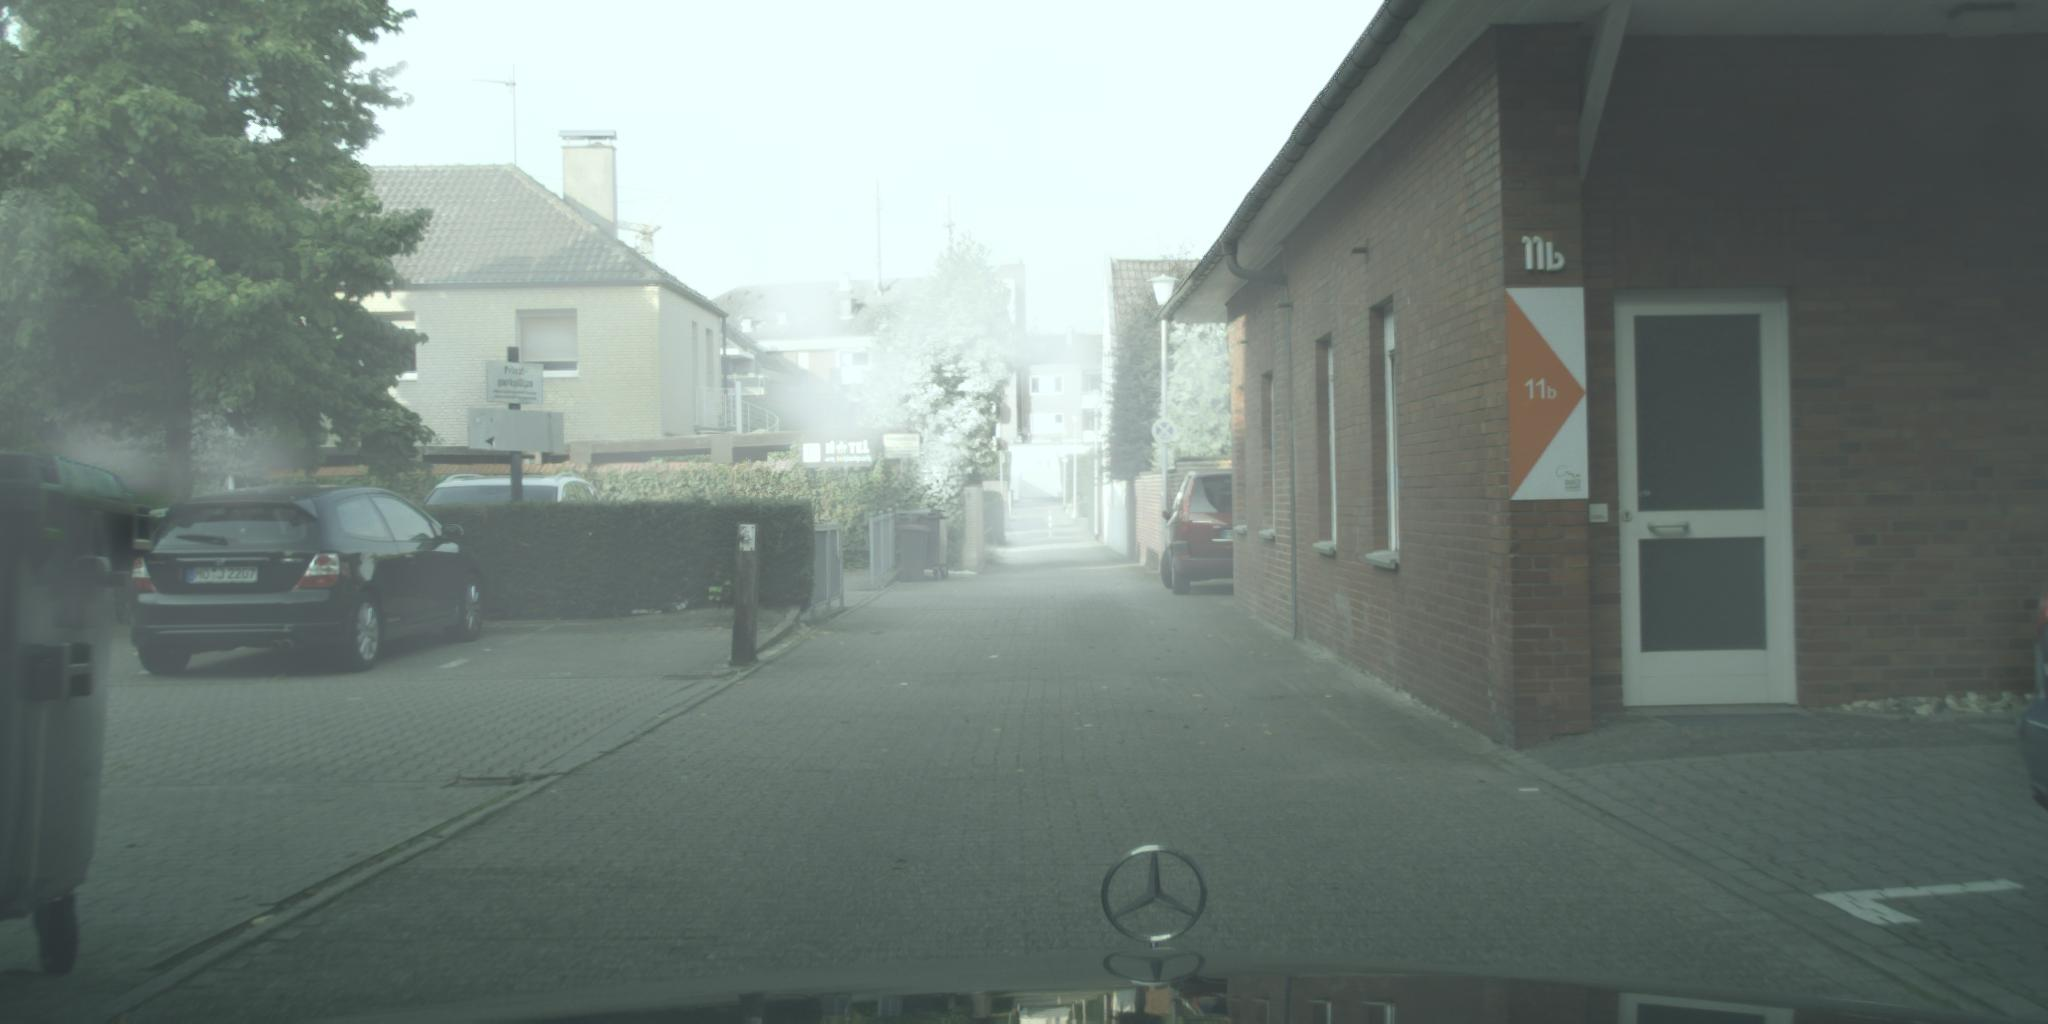car: (127, 485, 488, 678), (1159, 469, 1240, 598), (414, 472, 606, 525), (2017, 579, 2048, 816)
